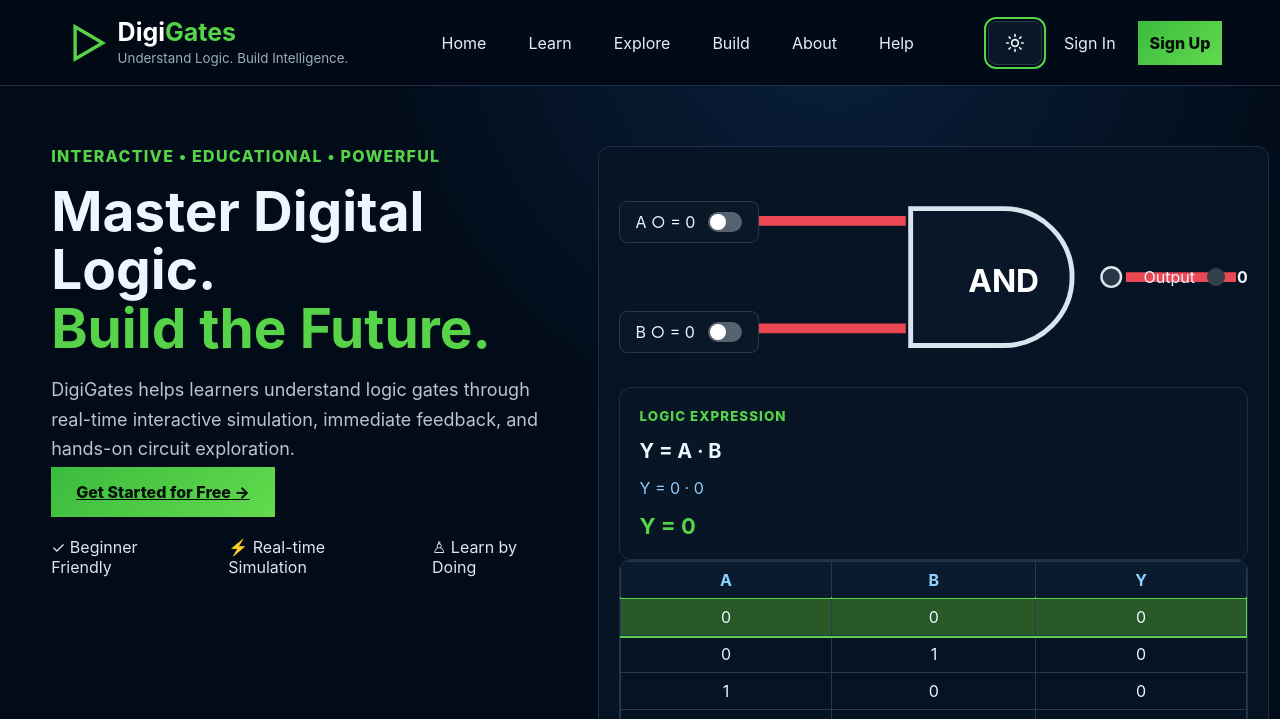
Test case: persisted global theme control › switches dark to light and back with the correct action icon and accessible label
Later steps or results of the test are not shown.
Expected: the icon with class "lucide-sun" is shown, [1005,32,1025,52]
Click the button with class "themeToggle" at [1015, 42], box [988,20,1042,64]
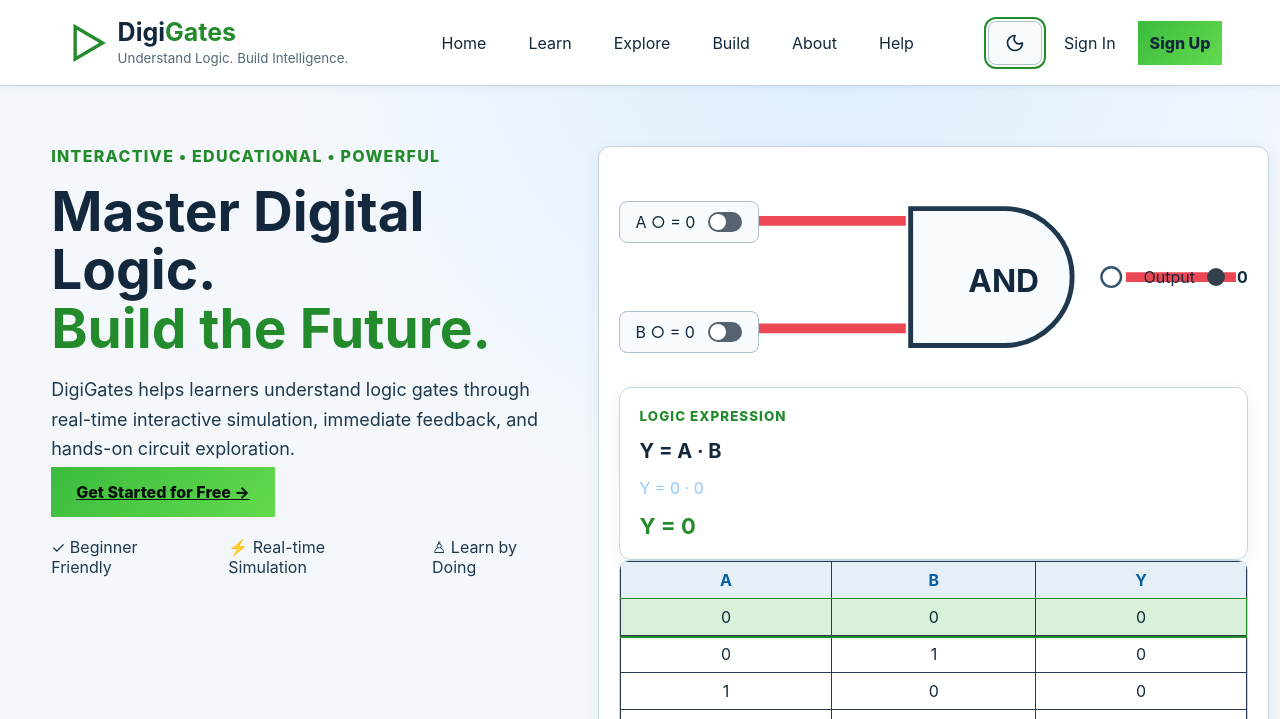
Now the icon with class "lucide-moon" is shown, box [1005,32,1025,52]
